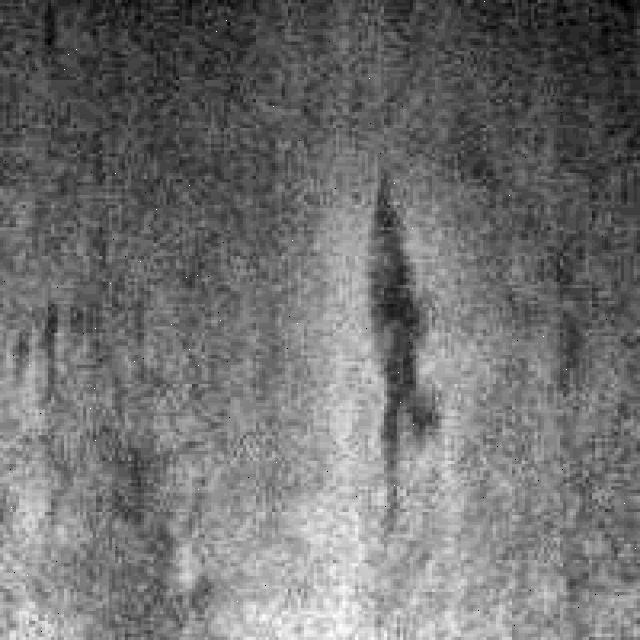Patches: (342, 169, 464, 532)
